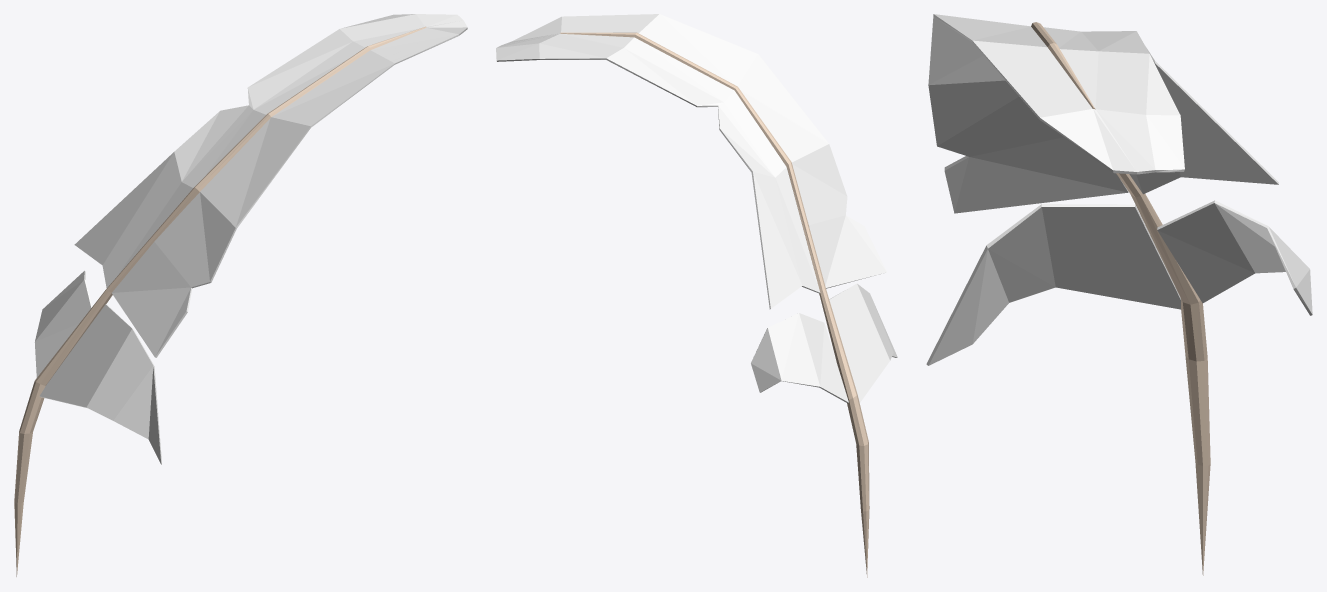
Rendered from SFFA_Feather.fbx.
The picture shows the model from 3 angles, left to right: view 1: azimuth 30°, elevation 25°; view 2: azimuth 150°, elevation 25°; view 3: azimuth 270°, elevation 25°; orthographic projection. The views are drawn at different scales.
Parts seen in each view (by area): view 1: SFFA_Feather; view 2: SFFA_Feather; view 3: SFFA_Feather.
Part boxes in pixels (x1,y1,x2,y2): SFFA_Feather: (14,14,467,576); SFFA_Feather: (496,14,897,577); SFFA_Feather: (926,14,1312,575).
Size of the model in its own units: 30.67 by 33.91 by 15.48.
